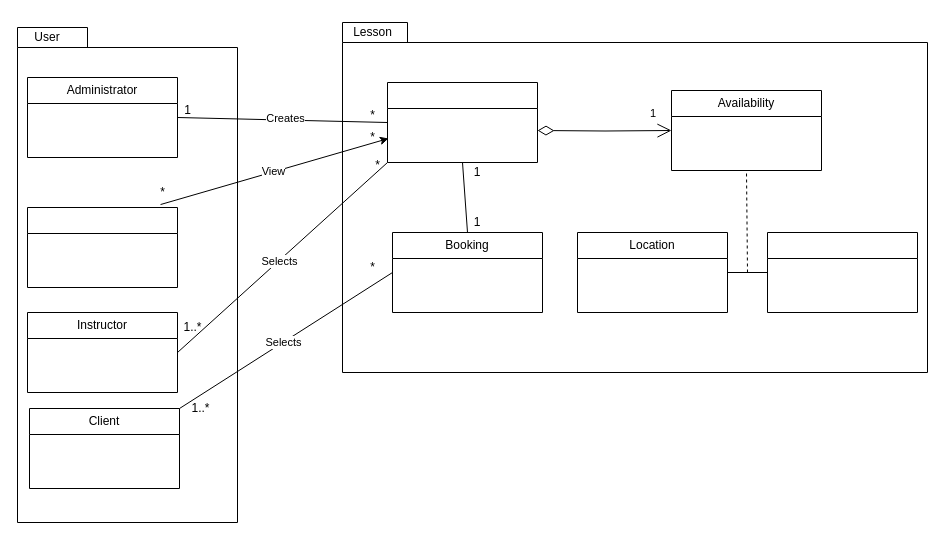
Some shapes in this 945 by 540 pixel diagram are drawn without their labels. Here are the shapes that lost their labels. From the top down, the box of each, then its label:
(386, 82, 538, 162): Offerings
(26, 206, 178, 288): Publlic
(766, 232, 918, 312): Schedule
